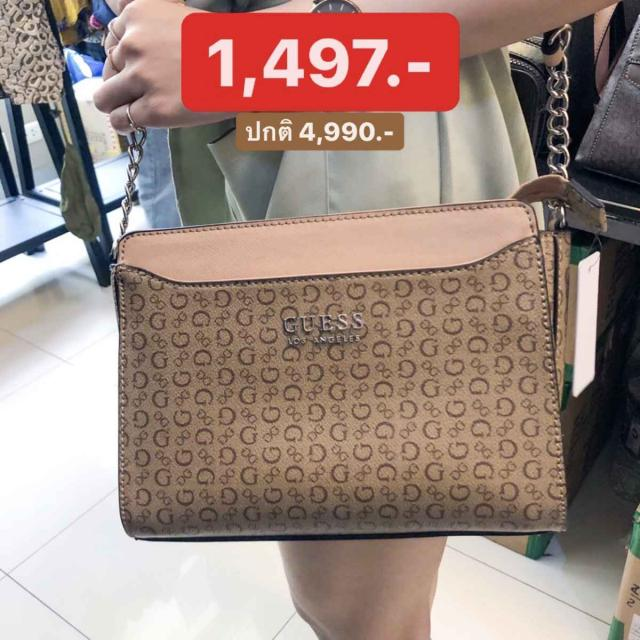handbag: (112, 179, 573, 546)
